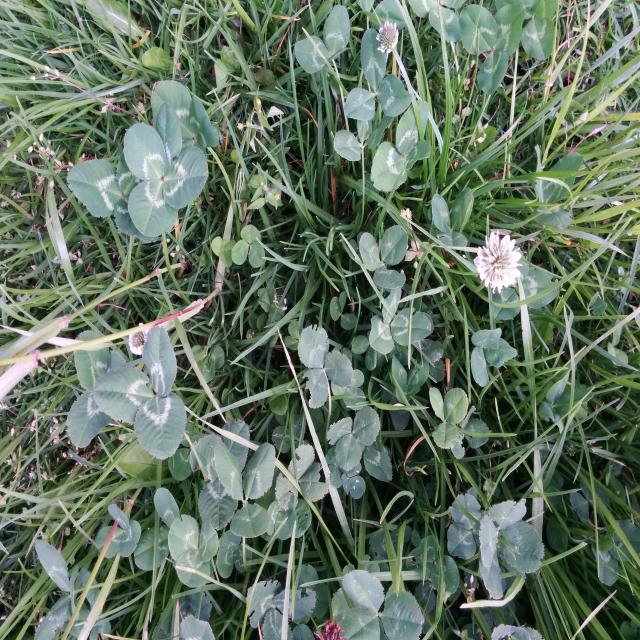Four Leaf Clover: (124, 103, 208, 236)
